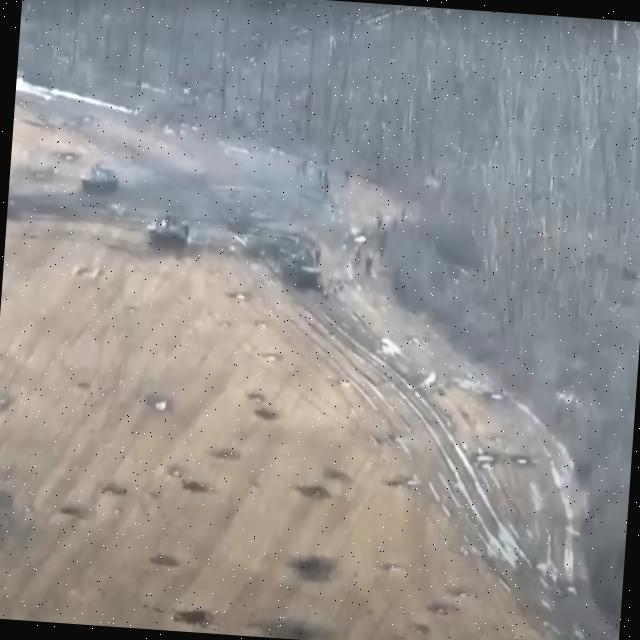AIFV: (145, 211, 193, 250), (79, 161, 122, 196)
MBT: (277, 248, 325, 292)
